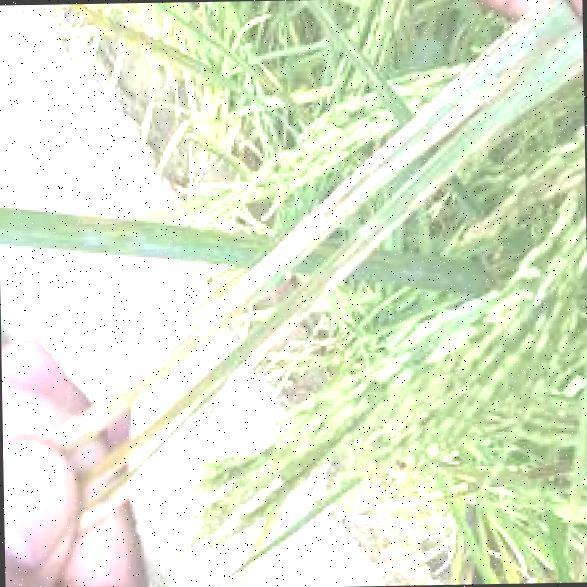Bacteria_Leaf_Blight: (53, 202, 327, 410)
